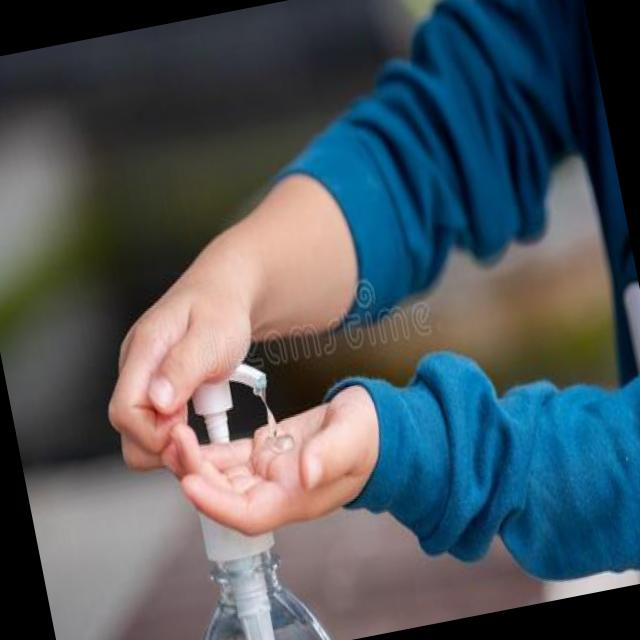sanitizer: (155, 358, 320, 640)
